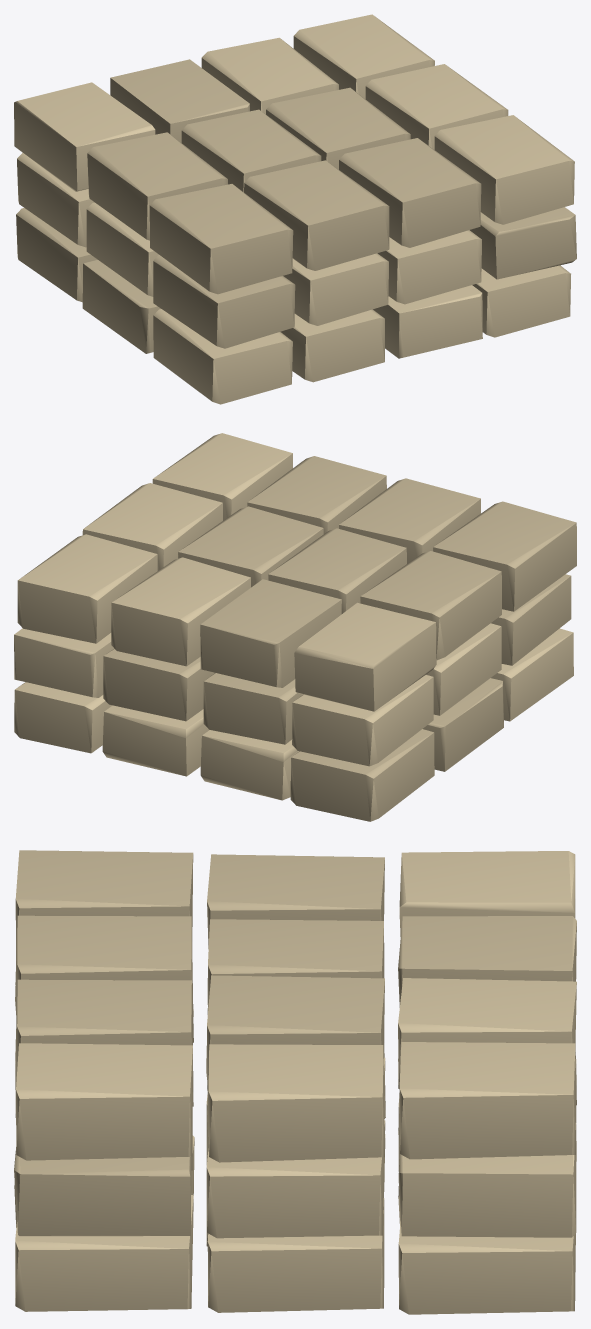
The model's file is JPN-07-LOD1.glb.
The picture shows the model from 3 angles, top to bottom: view 1: azimuth 30°, elevation 25°; view 2: azimuth 150°, elevation 25°; view 3: azimuth 270°, elevation 25°; orthographic projection. The views are drawn at different scales.
Visible parts, largest first — view 1: handmade block.024, handmade block.027, handmade block.033, handmade block.030, handmade block.026, handmade block.025, handmade block, handmade block.012, handmade block.034, handmade block.035, handmade block.029, handmade block.028 (+12 smaller); view 2: handmade block.026, handmade block.035, handmade block.029, handmade block.032, handmade block.024, handmade block.025, handmade block.002, handmade block.014, handmade block.034, handmade block.027, handmade block.033, handmade block.028 (+12 smaller); view 3: handmade block.034, handmade block.035, handmade block.033, handmade block.023, handmade block.022, handmade block.021, handmade block.011, handmade block.009, handmade block.010, handmade block.031, handmade block.024, handmade block.030 (+6 smaller).
Boxes of the visible parts, x1,y1,x2,y2 form: handmade block.024: (149,184,293,294); handmade block.027: (244,160,389,270); handmade block.033: (434,115,574,224); handmade block.030: (339,138,481,247); handmade block.026: (14,82,155,191); handmade block.025: (87,132,227,240); handmade block: (153,309,292,404); handmade block.012: (153,255,295,348); handmade block.034: (365,64,508,149); handmade block.035: (293,14,434,98); handmade block.029: (110,59,249,142); handmade block.028: (181,109,321,192); handmade block.026: (294,602,436,711); handmade block.035: (17,534,157,643); handmade block.029: (200,579,341,687); handmade block.032: (111,557,250,666); handmade block.024: (433,501,576,611); handmade block.025: (360,551,501,660); handmade block.002: (290,729,434,821); handmade block.014: (292,675,433,766); handmade block.034: (82,483,222,570); handmade block.027: (339,478,480,563); handmade block.033: (152,433,292,520); handmade block.028: (268,528,406,613); handmade block.034: (207,1044,384,1162); handmade block.035: (399,1042,575,1159); handmade block.033: (16,1043,192,1160); handmade block.023: (398,1123,576,1237); handmade block.022: (206,1120,385,1238); handmade block.021: (14,1147,191,1236); handmade block.011: (398,1221,575,1314); handmade block.009: (15,1195,193,1311); handmade block.010: (207,1198,384,1312); handmade block.031: (207,975,384,1090); handmade block.024: (15,850,193,960); handmade block.030: (15,979,193,1091).
Bounding box in the file's own units: 1.91 × 0.7891 × 1.82.
